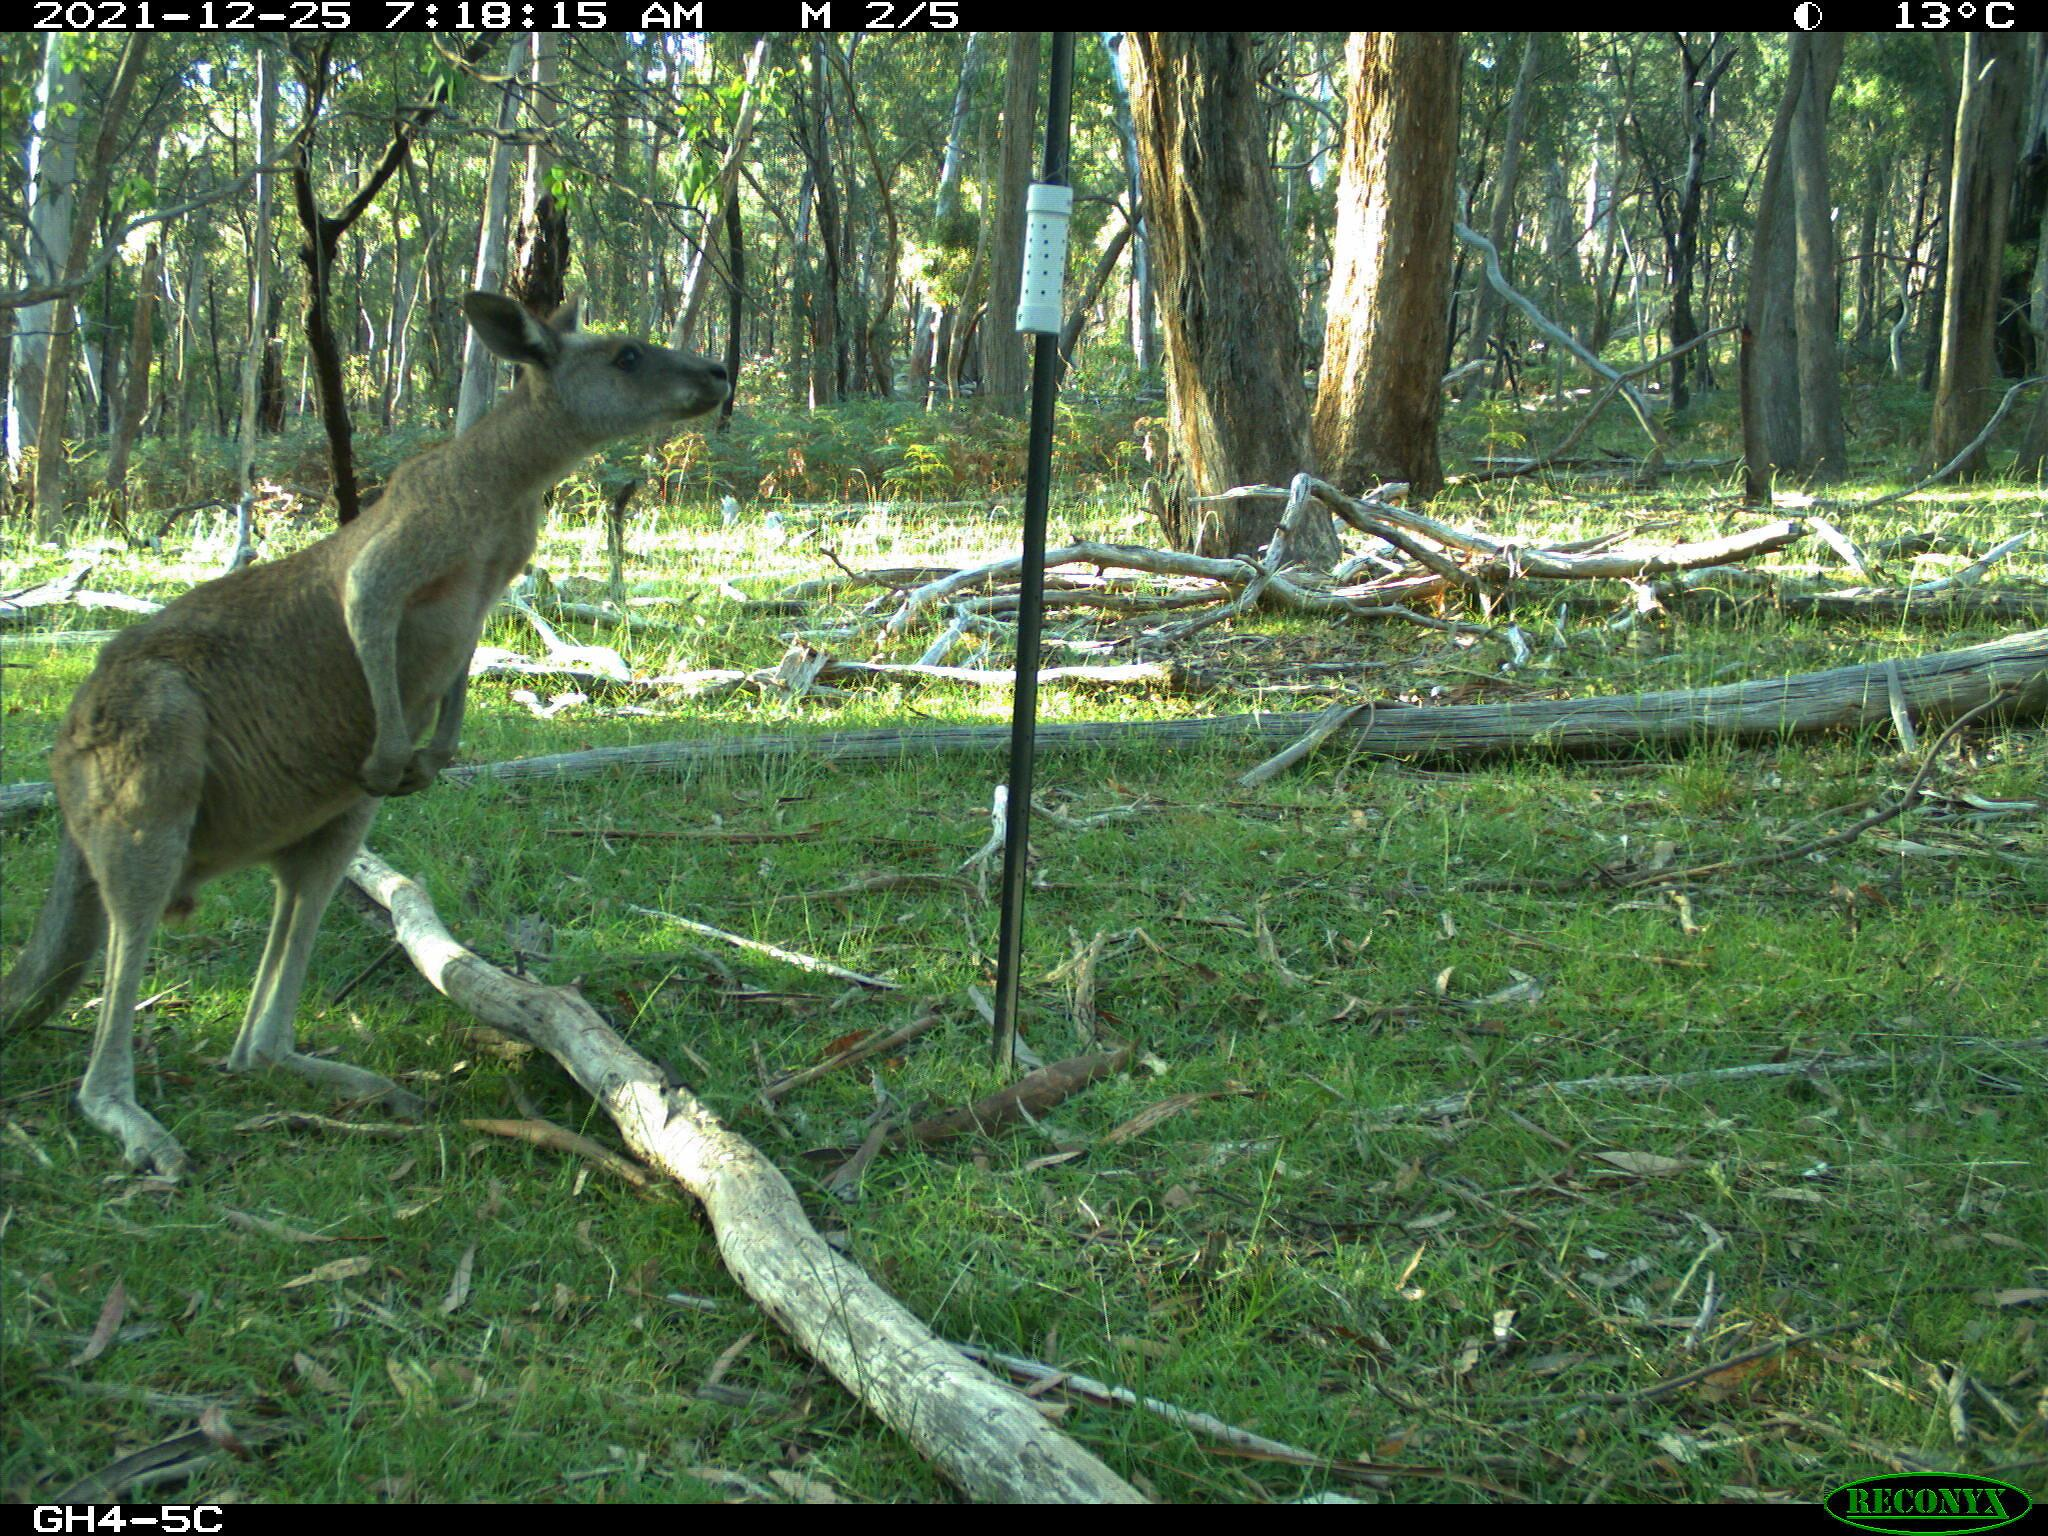Eastern grey kangaroo: (11, 271, 755, 1183)
